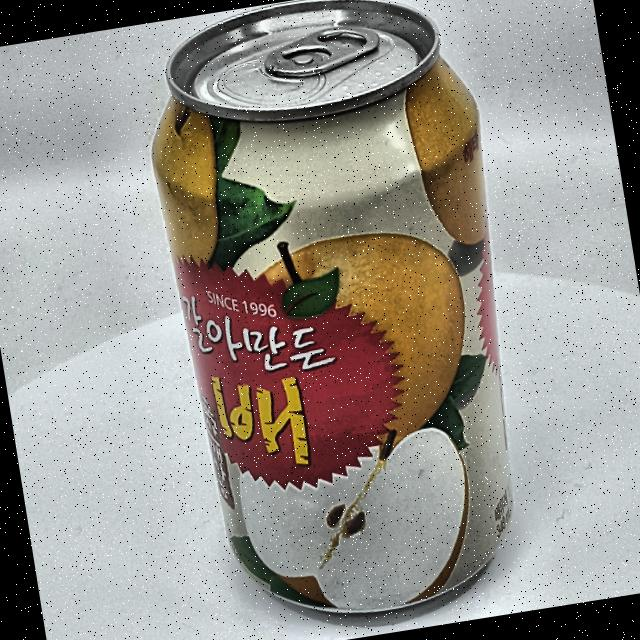galamandeunbae: (128, 0, 568, 640)
